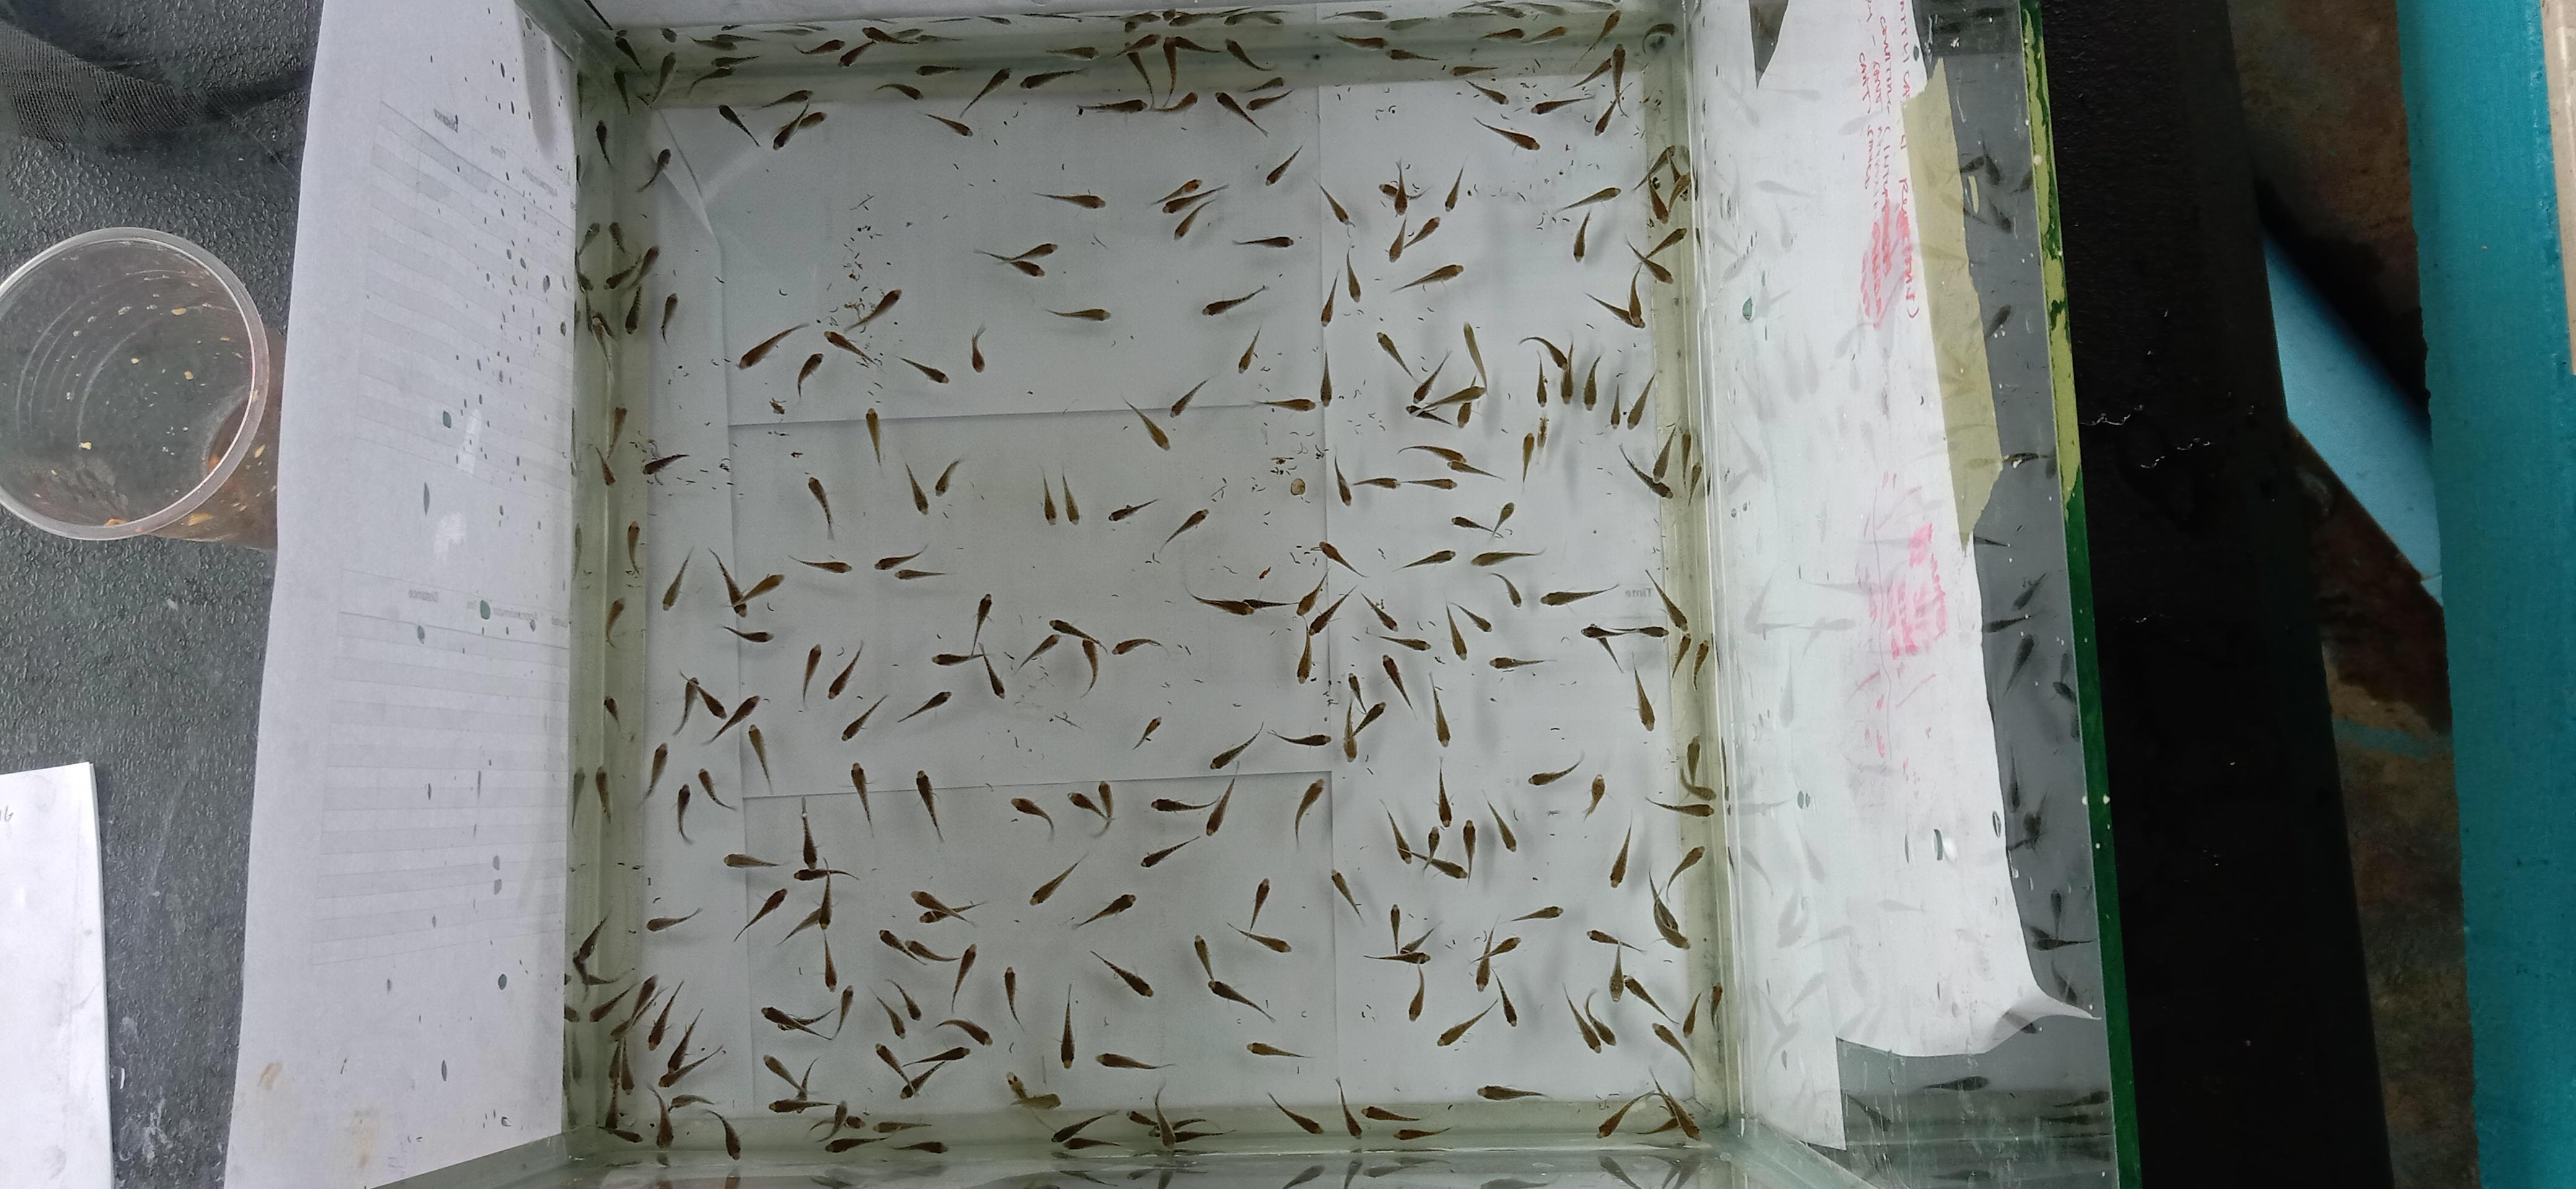fingerling: (1099, 26, 1286, 122), (1019, 614, 1161, 695), (1377, 330, 1487, 430), (1434, 928, 1520, 1048), (1582, 622, 1667, 731), (1364, 905, 1434, 1020), (931, 591, 1007, 698), (877, 925, 977, 1005), (808, 1099, 948, 1156), (1595, 1069, 1704, 1143), (790, 21, 951, 71), (1621, 976, 1699, 1071), (1193, 934, 1275, 1023), (1620, 422, 1704, 504), (1189, 570, 1327, 619), (1120, 376, 1209, 452), (923, 66, 1012, 138), (1643, 736, 1717, 819), (1385, 808, 1469, 880), (1125, 1084, 1211, 1151), (1170, 376, 1314, 415), (1378, 159, 1434, 261), (1295, 590, 1354, 683), (872, 1041, 968, 1099), (1375, 330, 1449, 404), (657, 1008, 724, 1087), (761, 984, 853, 1041), (1551, 186, 1620, 259), (1214, 74, 1293, 138), (710, 549, 784, 616), (1226, 879, 1291, 954), (1150, 777, 1235, 834), (583, 0, 649, 74), (1635, 143, 1692, 225), (792, 813, 858, 882), (598, 1041, 642, 1143), (672, 1094, 741, 1158), (1048, 617, 1104, 693), (1582, 622, 1667, 672), (1360, 591, 1429, 650), (762, 1053, 831, 1110), (1587, 928, 1644, 997), (1342, 673, 1387, 762), (614, 51, 677, 113), (649, 1090, 716, 1148), (738, 320, 815, 370), (1518, 335, 1575, 401), (777, 877, 833, 944), (1398, 443, 1502, 480), (1648, 1071, 1702, 1140), (1562, 984, 1615, 1054), (931, 649, 1005, 698), (971, 591, 1005, 696), (1585, 269, 1644, 328), (1406, 384, 1485, 429), (1626, 227, 1687, 284), (1332, 453, 1398, 506), (1319, 245, 1362, 325), (1152, 176, 1229, 220), (672, 670, 724, 734), (1467, 550, 1525, 608), (1161, 33, 1212, 97), (1592, 46, 1628, 135), (1648, 872, 1689, 949), (974, 240, 1058, 278), (1088, 949, 1153, 997), (877, 926, 959, 964), (609, 976, 659, 1038), (733, 885, 787, 941), (1028, 854, 1086, 907), (1207, 977, 1275, 1021), (1171, 187, 1227, 240), (1411, 828, 1467, 880), (1050, 1110, 1124, 1150), (1472, 928, 1520, 989), (1643, 568, 1689, 631), (687, 54, 759, 94), (910, 887, 984, 925), (1444, 601, 1492, 659), (596, 404, 629, 486), (705, 693, 757, 744), (586, 972, 639, 1023), (1620, 450, 1674, 499), (1122, 396, 1170, 452), (1621, 976, 1674, 1025), (1209, 721, 1263, 769), (872, 1043, 920, 1097), (1265, 1090, 1322, 1135), (647, 980, 685, 1048), (1451, 501, 1515, 540), (1214, 90, 1267, 138), (1378, 159, 1424, 213), (761, 1003, 833, 1038), (605, 245, 659, 291), (1595, 1092, 1649, 1138), (580, 282, 618, 348), (710, 549, 747, 614), (1068, 780, 1112, 836), (1388, 213, 1439, 261), (1649, 1021, 1697, 1072), (1677, 736, 1715, 800), (770, 107, 825, 151), (1189, 593, 1286, 617), (823, 328, 881, 370), (808, 1100, 866, 1141), (839, 693, 889, 741), (1160, 506, 1209, 553), (1201, 282, 1268, 317), (1552, 186, 1620, 220), (1071, 892, 1135, 928), (1436, 1005, 1490, 1048), (1669, 631, 1710, 686), (1293, 777, 1326, 846), (1474, 117, 1539, 151), (1004, 1071, 1061, 1110), (659, 1048, 716, 1087), (1681, 982, 1723, 1035), (1306, 590, 1354, 636), (913, 769, 943, 842), (963, 66, 1012, 110), (1226, 921, 1291, 954), (1410, 350, 1451, 402), (1649, 169, 1690, 222), (660, 547, 695, 609), (1391, 263, 1464, 292), (1539, 581, 1620, 608), (1633, 143, 1676, 192), (826, 642, 862, 700), (1009, 795, 1055, 839), (1380, 652, 1414, 711), (1582, 627, 1626, 673), (851, 287, 900, 328), (1140, 836, 1201, 869), (1520, 415, 1549, 483), (716, 103, 759, 149), (1050, 617, 1104, 654), (805, 475, 835, 540), (1681, 427, 1705, 504), (1625, 371, 1658, 429), (1341, 675, 1362, 762), (1575, 48, 1618, 90), (897, 688, 951, 721), (695, 767, 736, 810), (1666, 844, 1705, 888), (1204, 777, 1234, 836), (1479, 25, 1567, 44), (1483, 798, 1516, 851), (636, 146, 672, 194), (1375, 330, 1411, 378), (935, 1017, 992, 1046), (1226, 38, 1275, 72), (1336, 1077, 1364, 1138), (950, 943, 977, 1003), (1528, 755, 1582, 787), (578, 959, 632, 990), (1017, 631, 1060, 670), (1630, 245, 1672, 284), (1329, 869, 1362, 920), (1318, 542, 1364, 578), (641, 742, 669, 801), (1385, 806, 1413, 865), (872, 990, 907, 1038), (646, 53, 677, 105), (849, 760, 872, 831), (1170, 376, 1209, 417), (884, 977, 922, 1020), (1124, 51, 1152, 108), (1318, 182, 1354, 227), (672, 673, 698, 734), (1094, 1051, 1175, 1071), (1153, 177, 1201, 210), (646, 905, 701, 933), (1263, 146, 1303, 186), (649, 1089, 675, 1148), (1644, 795, 1712, 818), (1582, 622, 1667, 640), (746, 724, 770, 787), (1462, 322, 1487, 384), (608, 1040, 636, 1094), (1587, 928, 1644, 954), (1295, 572, 1327, 617), (1002, 964, 1025, 1030), (1485, 568, 1523, 608), (1362, 591, 1398, 632), (877, 926, 918, 962), (800, 642, 823, 706), (1608, 823, 1631, 887), (1633, 667, 1656, 731), (792, 859, 856, 882), (902, 938, 958, 964), (641, 452, 690, 481), (1464, 74, 1510, 105), (861, 23, 923, 46), (1247, 77, 1293, 108), (1032, 191, 1104, 210), (1191, 934, 1217, 989), (899, 356, 950, 384), (613, 31, 647, 72), (1676, 767, 1717, 801), (908, 1046, 969, 1069), (1019, 69, 1083, 90), (560, 971, 586, 1021), (1367, 629, 1429, 650), (1160, 34, 1181, 97), (1472, 549, 1544, 567), (1396, 925, 1434, 959), (744, 570, 784, 603), (971, 591, 994, 647), (1594, 94, 1625, 135), (792, 553, 851, 575), (586, 309, 616, 351), (904, 463, 928, 514), (874, 547, 925, 572), (1416, 854, 1467, 879), (795, 351, 823, 396), (933, 457, 964, 496), (1247, 1040, 1309, 1059), (1433, 685, 1452, 747), (1533, 95, 1595, 115), (1364, 946, 1431, 964), (923, 112, 973, 136), (1060, 994, 1076, 1067), (1235, 327, 1262, 373), (831, 984, 854, 1036), (1446, 606, 1469, 659), (1222, 8, 1283, 28), (1400, 549, 1456, 570), (798, 813, 820, 869), (623, 287, 647, 335), (1107, 499, 1158, 522), (1249, 877, 1272, 928), (1272, 728, 1331, 747), (1477, 1084, 1548, 1100), (767, 1095, 831, 1113), (568, 767, 586, 831), (1076, 97, 1145, 113), (1582, 353, 1602, 411), (1582, 774, 1607, 819), (818, 931, 838, 989), (1331, 31, 1388, 51), (718, 1113, 743, 1159), (1495, 977, 1518, 1026), (761, 89, 813, 110), (1092, 780, 1114, 833), (1625, 271, 1644, 327), (675, 783, 693, 844), (1166, 33, 1217, 54), (721, 851, 780, 869), (1406, 967, 1426, 1021), (823, 1135, 877, 1155), (1387, 215, 1410, 261), (1681, 989, 1704, 1035), (605, 598, 626, 647), (1117, 33, 1160, 57), (606, 404, 628, 453), (864, 407, 882, 465), (1436, 769, 1454, 826), (1332, 453, 1352, 506), (1607, 948, 1626, 1000), (1046, 305, 1109, 322), (1132, 714, 1161, 749), (593, 765, 611, 821), (1150, 793, 1206, 811), (1364, 1104, 1419, 1122), (697, 682, 724, 718), (1060, 473, 1079, 524), (1572, 210, 1592, 261), (1295, 632, 1314, 683), (575, 222, 601, 259), (982, 655, 1005, 698), (718, 624, 772, 642), (659, 292, 678, 342), (595, 120, 614, 169), (1319, 273, 1337, 325), (1488, 501, 1515, 537), (1607, 376, 1625, 429), (1608, 46, 1626, 99), (1442, 166, 1464, 210), (1648, 181, 1669, 225), (593, 445, 616, 486), (1671, 632, 1690, 680), (969, 322, 987, 373), (1111, 637, 1161, 655), (1511, 903, 1562, 921), (1692, 636, 1710, 686), (1048, 43, 1099, 61), (1040, 468, 1056, 524), (1395, 1125, 1451, 1141), (838, 43, 872, 69), (568, 406, 582, 475), (793, 38, 843, 56), (624, 521, 641, 575), (1160, 89, 1198, 112), (1446, 62, 1498, 79), (874, 82, 922, 100), (1529, 360, 1548, 407), (1387, 903, 1405, 951), (890, 1140, 948, 1155), (1488, 655, 1546, 670), (1398, 476, 1456, 491), (1462, 819, 1477, 877), (708, 53, 759, 69), (669, 1092, 715, 1110), (1345, 245, 1360, 301), (876, 1118, 931, 1133), (931, 650, 981, 667), (1387, 48, 1436, 64), (1595, 11, 1620, 44), (1318, 350, 1332, 404), (1232, 235, 1293, 248), (1260, 397, 1313, 412), (1525, 25, 1567, 43), (606, 220, 628, 256), (601, 1125, 642, 1143), (570, 522, 583, 578), (1709, 982, 1723, 1031), (1451, 514, 1488, 532), (1423, 826, 1441, 864), (895, 568, 945, 581), (1163, 8, 1198, 26), (915, 62, 961, 76), (1354, 476, 1398, 489), (1479, 28, 1521, 41), (1048, 711, 1081, 728), (603, 695, 619, 723), (1288, 473, 1306, 498)
